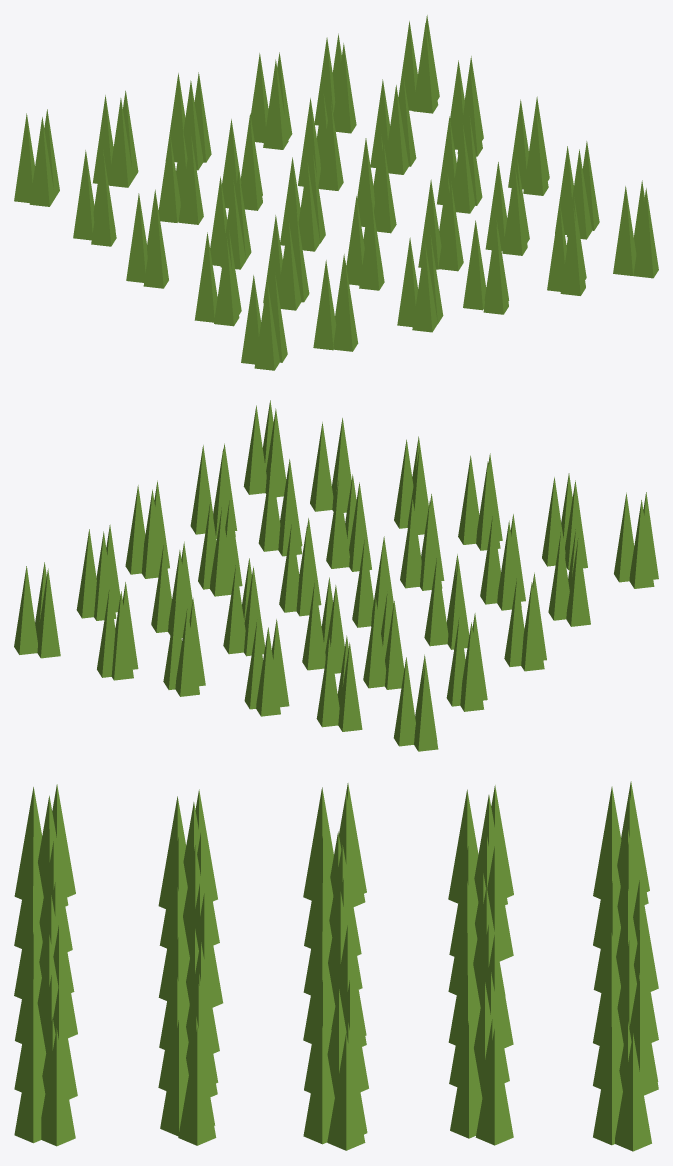
Rendered from farm_crops.glb.
3 views of the same model, one above another, from view 1: azimuth 30°, elevation 25°; view 2: azimuth 150°, elevation 25°; view 3: azimuth 270°, elevation 25° (orthographic). The views are drawn at different scales.
Parts seen in each view (by area): view 1: crop; view 2: crop; view 3: crop.
Part boxes in pixels (left/top/right/bottom): crop: left=14, top=15, right=658, bottom=370; crop: left=14, top=400, right=658, bottom=751; crop: left=14, top=781, right=658, bottom=1151.
Size of the model in its own units: 1.67 by 0.32 by 1.69.
